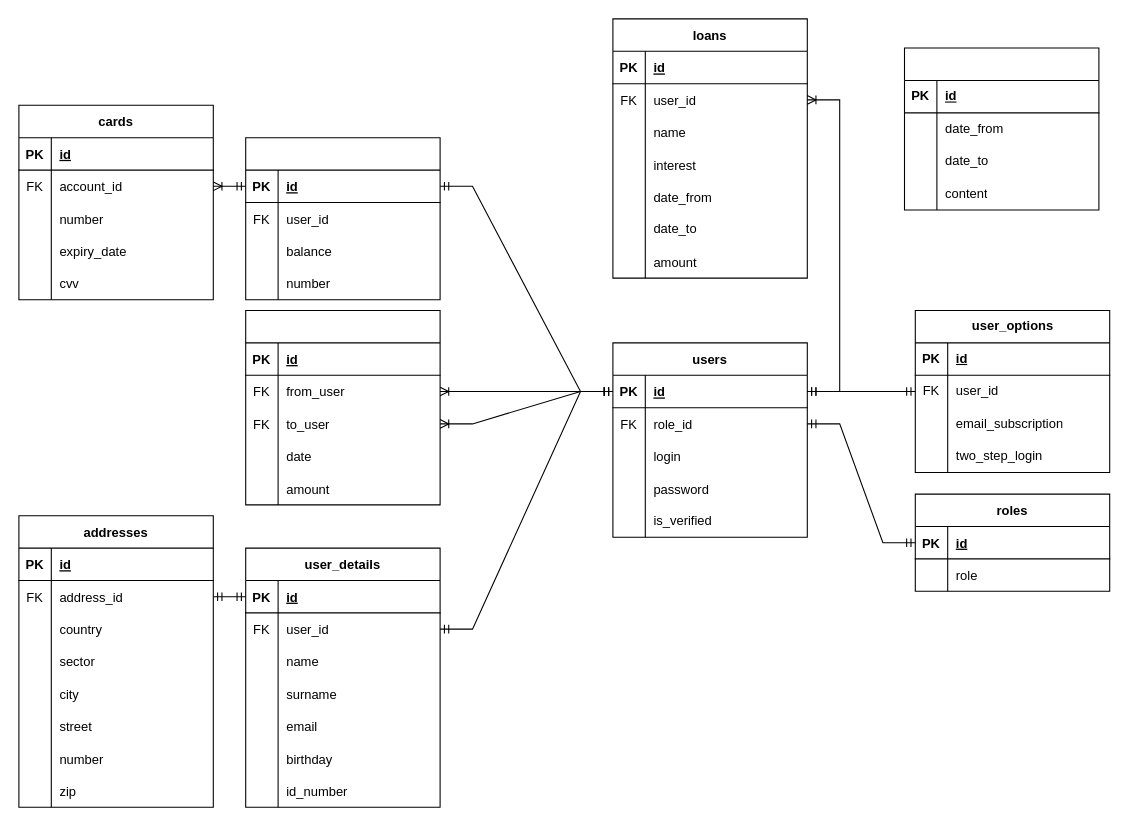
The diagram is 1129 pixels wide and 826 high, and some of its shapes have lost their labels. Here are the shapes that lost their labels. From the top down, the box of each, then its label:
(903, 47, 1099, 210): announcements
(245, 137, 440, 300): accounts
(245, 309, 440, 505): transactions
